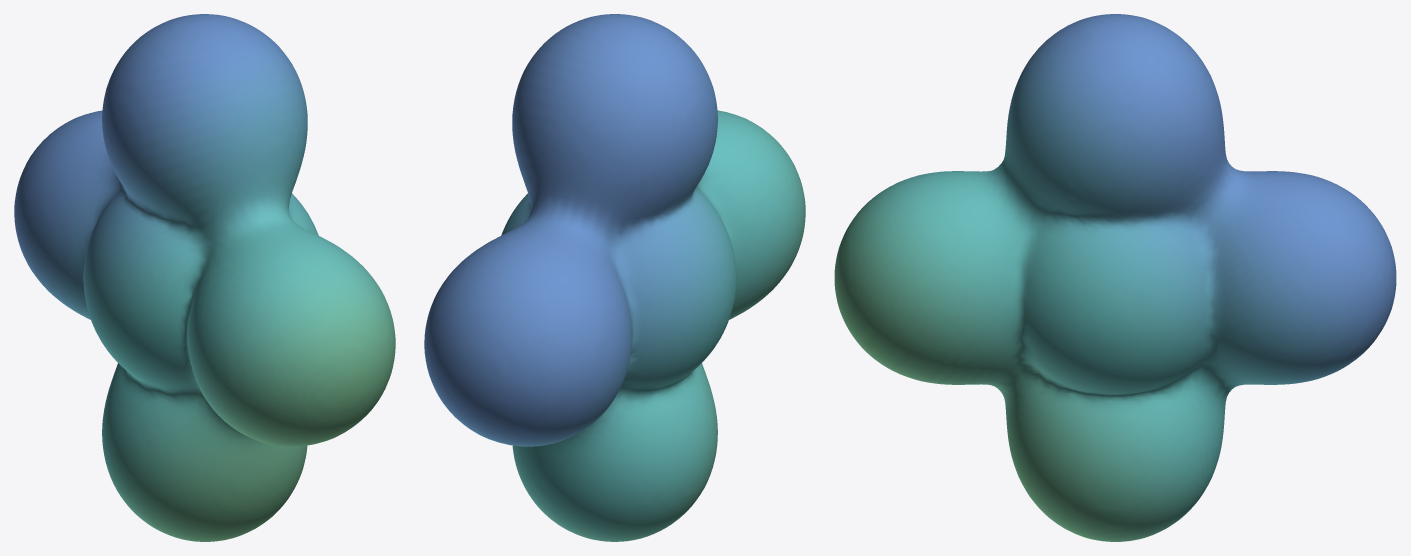
The model's file is 06_cello_animated.glb.
The picture shows the model from 3 angles, left to right: view 1: azimuth 30°, elevation 25°; view 2: azimuth 150°, elevation 25°; view 3: azimuth 270°, elevation 25°; orthographic projection.
Parts seen in each view (by area): view 1: Volume Mesher.1_remesh; view 2: Volume Mesher.1_remesh; view 3: Volume Mesher.1_remesh.
Part boxes in pixels (box(x1,y1,x2,y2)): Volume Mesher.1_remesh: box(14, 14, 395, 541); Volume Mesher.1_remesh: box(424, 14, 805, 541); Volume Mesher.1_remesh: box(834, 14, 1396, 541).
Bounding box in the file's own units: 0.0565 × 0.1305 × 0.1305.
1 material, 1 textured.
